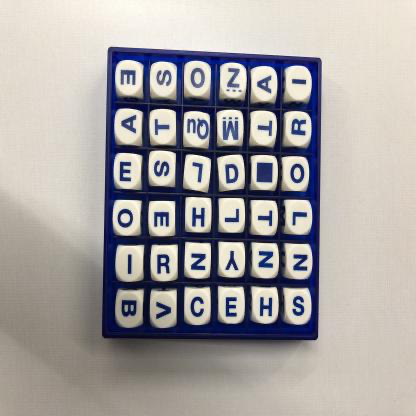a: (116, 111, 144, 147), (252, 68, 277, 100)
b: (118, 290, 144, 327)
c: (185, 289, 212, 323)
d: (219, 156, 246, 190)
e: (116, 62, 145, 96), (115, 155, 144, 189), (219, 288, 246, 323), (150, 203, 176, 238)
h: (186, 198, 213, 233), (254, 289, 280, 324)
i: (117, 246, 145, 282), (286, 67, 312, 98)
l: (286, 201, 314, 234), (185, 158, 213, 190), (220, 200, 246, 234)
m: (218, 112, 244, 145)
n: (251, 243, 279, 279), (185, 241, 212, 278), (286, 245, 313, 279)
o: (114, 202, 142, 238), (283, 158, 312, 191), (186, 63, 212, 97)
qu: (185, 113, 212, 148)
r: (151, 245, 178, 281), (286, 112, 312, 145)
s: (151, 65, 178, 100), (286, 290, 312, 324), (150, 153, 176, 186)
t: (251, 112, 278, 147), (252, 201, 279, 236), (150, 112, 176, 145)
v: (152, 292, 178, 327)
wild: (252, 158, 279, 191)
y: (219, 243, 246, 279)
z: (222, 65, 247, 97)
